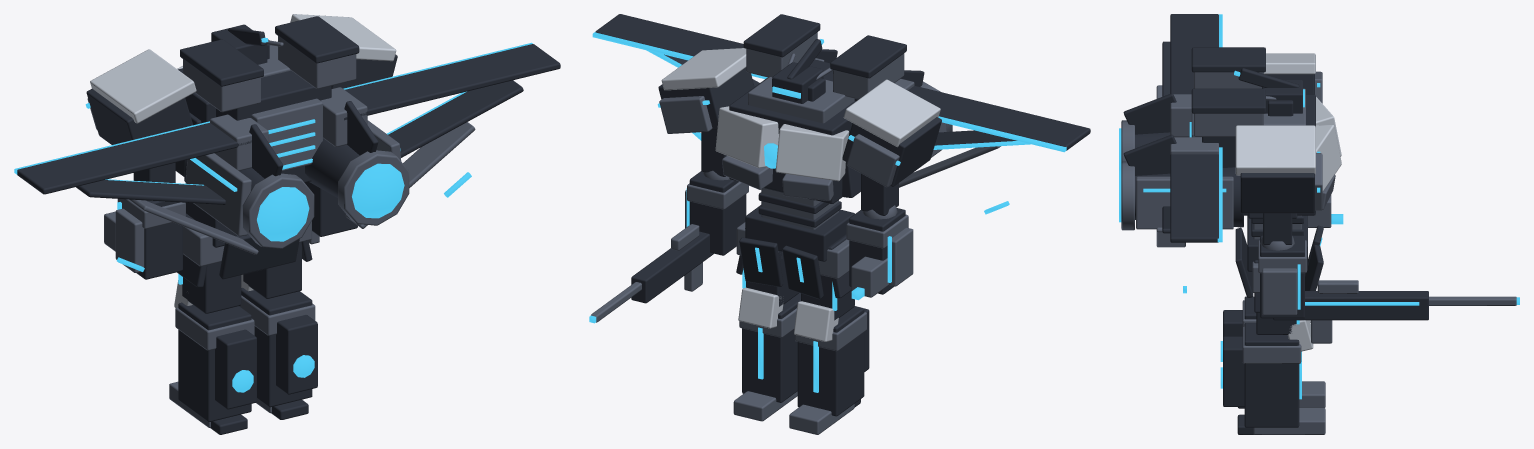
Rendered from player.glb.
3 renders of one model, left to right at view 1: azimuth 30°, elevation 25°; view 2: azimuth 150°, elevation 25°; view 3: azimuth 270°, elevation 25°, orthographic. The views are drawn at different scales.
Visible parts, largest first — view 1: backpack_mid, rightWing_dark, leftWing_dark, leftShin_dark, backpack_dark, rightShin_dark, backpack_glow, leftShoulder_light, torso_dark, rightWing_mid, leftWing_mid, leftShoulder_dark (+17 smaller); view 2: torso_dark, torso_light, rightArm_dark, torso_mid, leftWing_dark, leftShin_dark, leftShoulder_light, leftArm_mid, rightShin_dark, rightWing_dark, rightArm_mid, leftArm_dark (+22 smaller); view 3: rightShin_dark, rightArm_dark, rightArm_mid, rightWing_dark, backpack_dark, rightShoulder_light, backpack_mid, leftWing_dark, rightShoulder_dark, torso_dark, rightShin_mid, rightPod_dark (+19 smaller).
Boxes of the visible parts, x1,y1,x2,y2 form: backpack_mid: (185,98,409,248); rightWing_dark: (344,44,560,157); leftWing_dark: (17,123,251,204); leftShin_dark: (178,302,256,434); backpack_dark: (184,70,378,197); rightShin_dark: (241,288,317,419); backpack_glow: (190,119,404,241); leftShoulder_light: (90,49,196,123); torso_dark: (175,68,312,287); rightWing_mid: (320,87,475,228); leftWing_mid: (129,114,268,254); leftShoulder_dark: (86,89,192,144); torso_dark: (729,77,860,299); torso_light: (715,106,848,181); rightArm_dark: (631,130,746,303); torso_mid: (722,77,854,229); leftWing_dark: (908,85,1090,150); leftShin_dark: (797,306,869,416); leftShoulder_light: (843,79,940,147); leftArm_mid: (846,205,913,297); rightShin_dark: (742,293,800,402); rightWing_dark: (595,14,759,86); rightArm_mid: (591,170,748,322); leftArm_dark: (849,173,905,294); rightShin_dark: (1223,323,1299,434); rightArm_dark: (1260,213,1428,320); rightArm_mid: (1258,236,1516,343); rightWing_dark: (1162,154,1218,242); backpack_dark: (1123,93,1243,227); rightShoulder_light: (1235,125,1315,175); backpack_mid: (1121,112,1233,230); leftWing_dark: (1162,14,1218,96); rightShoulder_dark: (1240,173,1314,213); torso_dark: (1235,94,1323,312); rightShin_mid: (1242,326,1325,434); rightPod_dark: (1191,88,1265,113).
Size of the model in its own units: 5.44 by 3.92 by 4.11.
